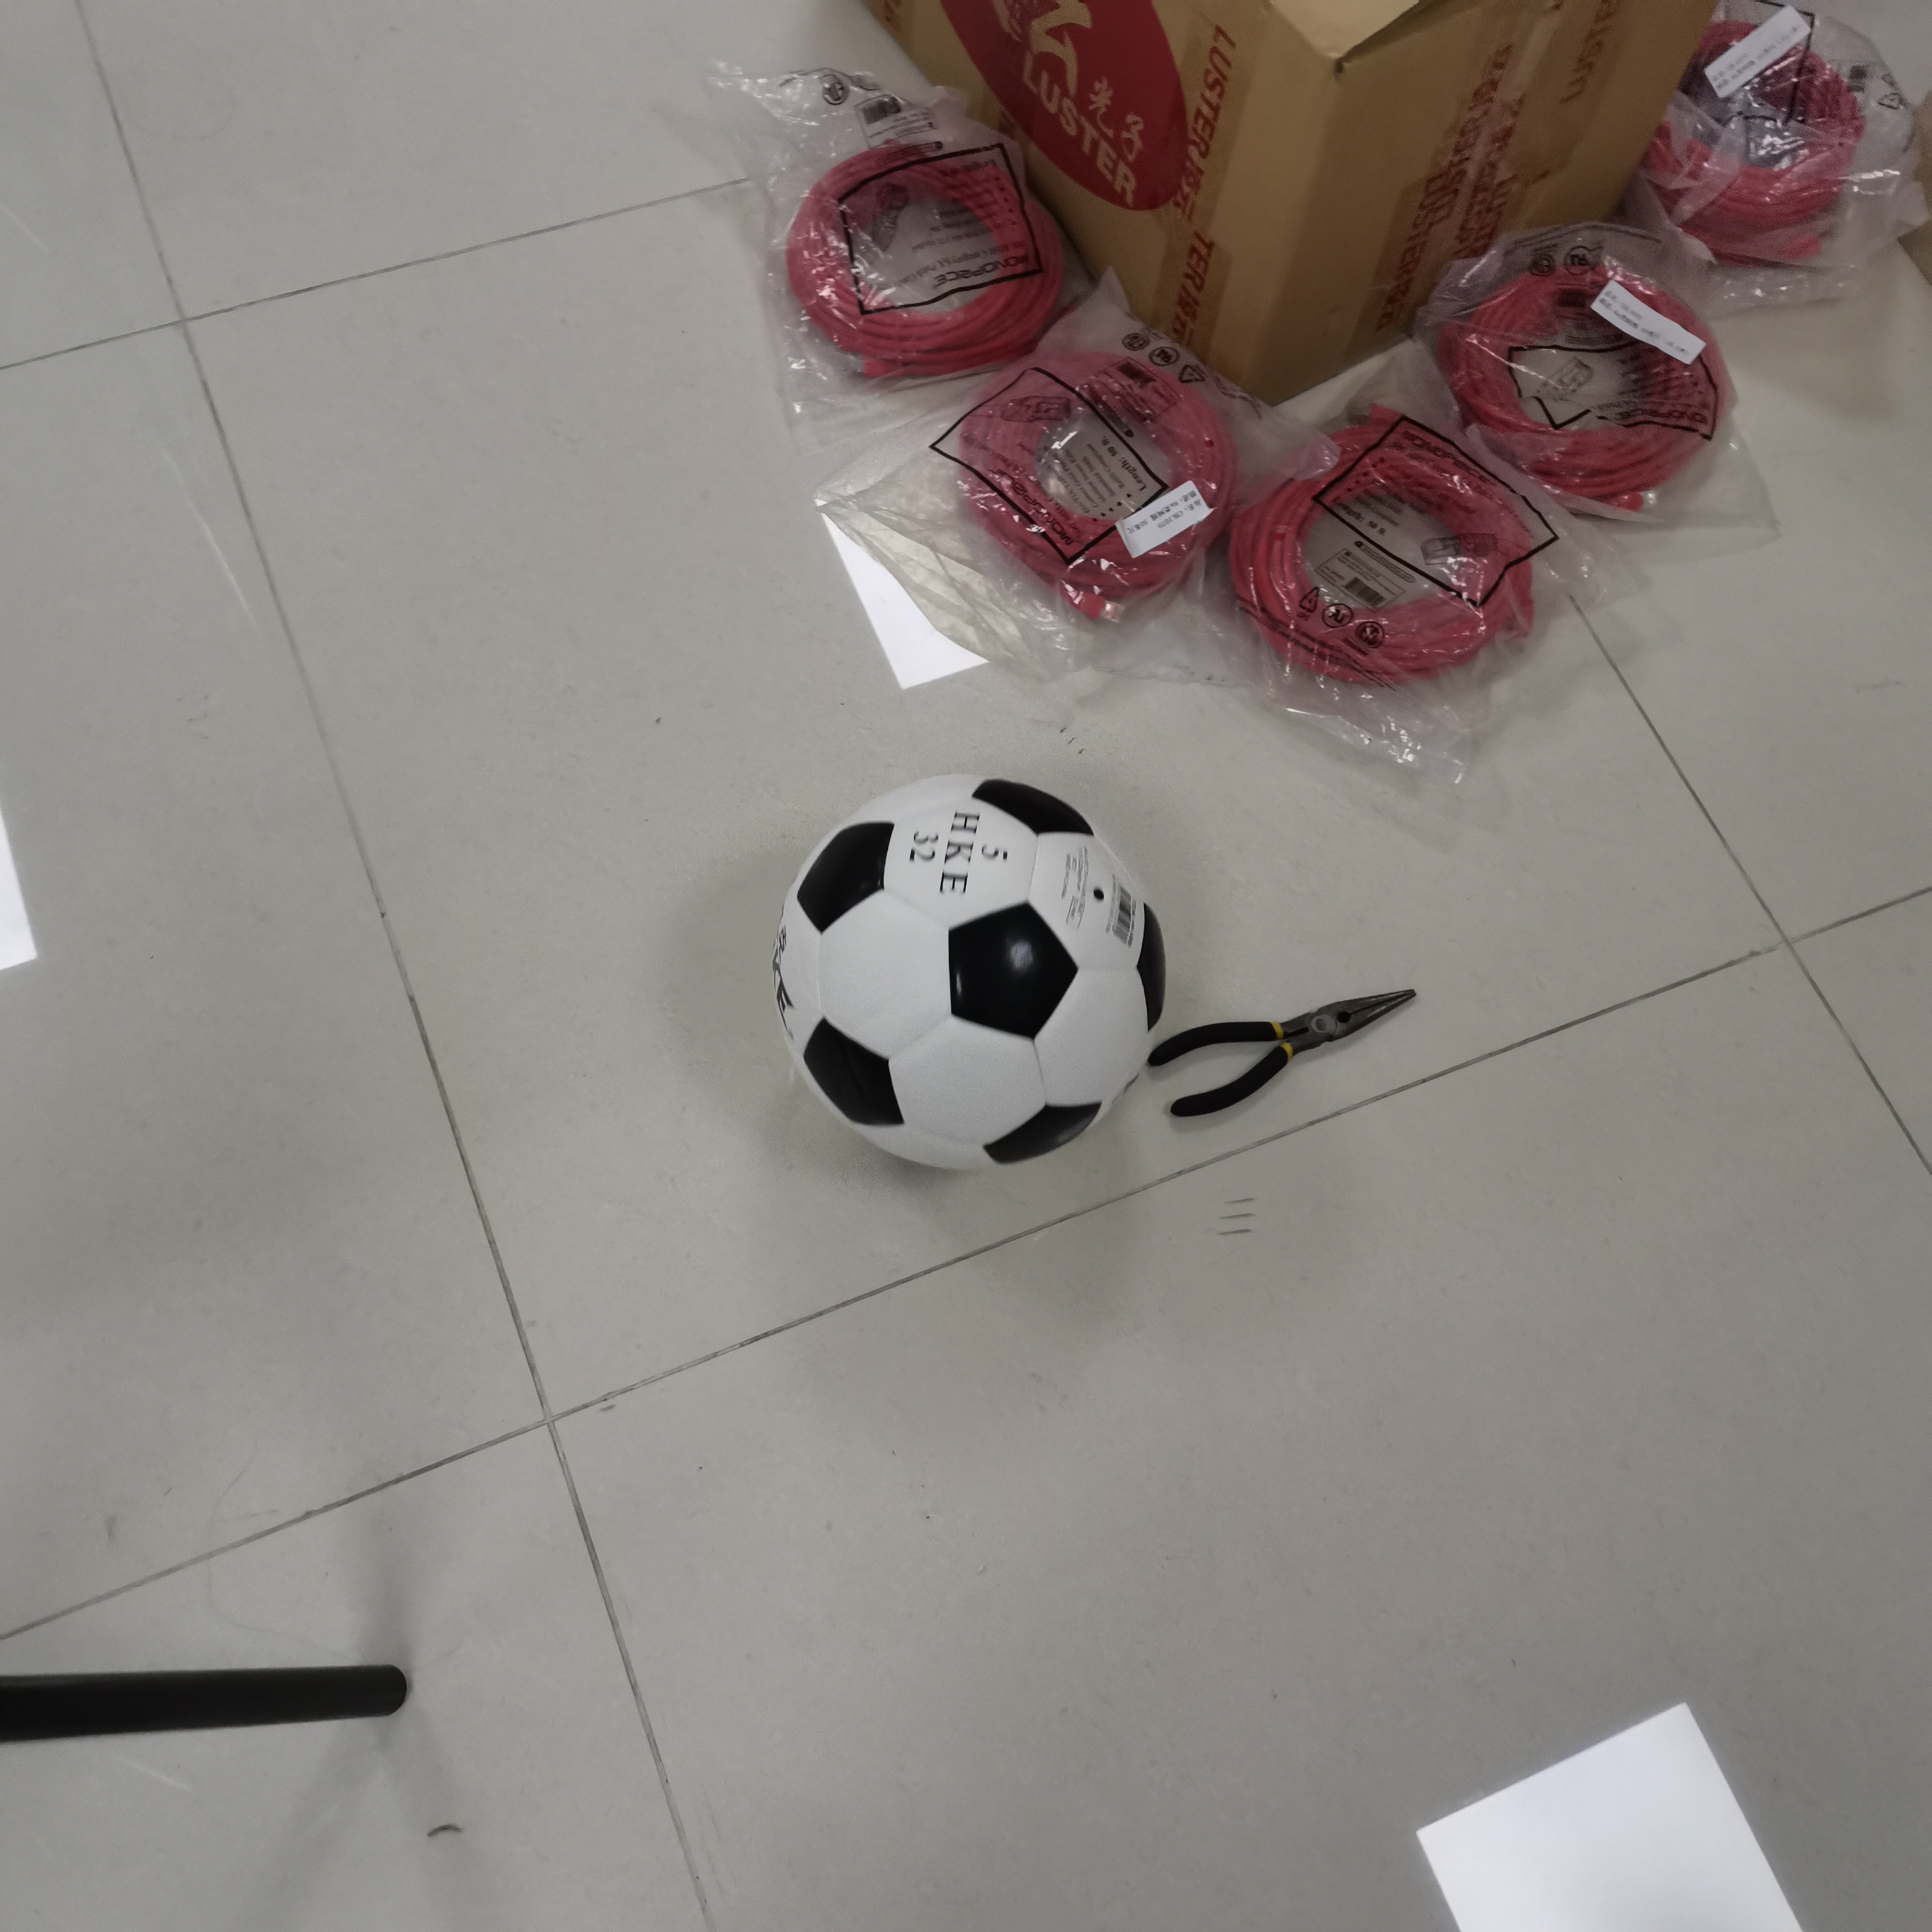football: (780, 771, 1168, 1171)
